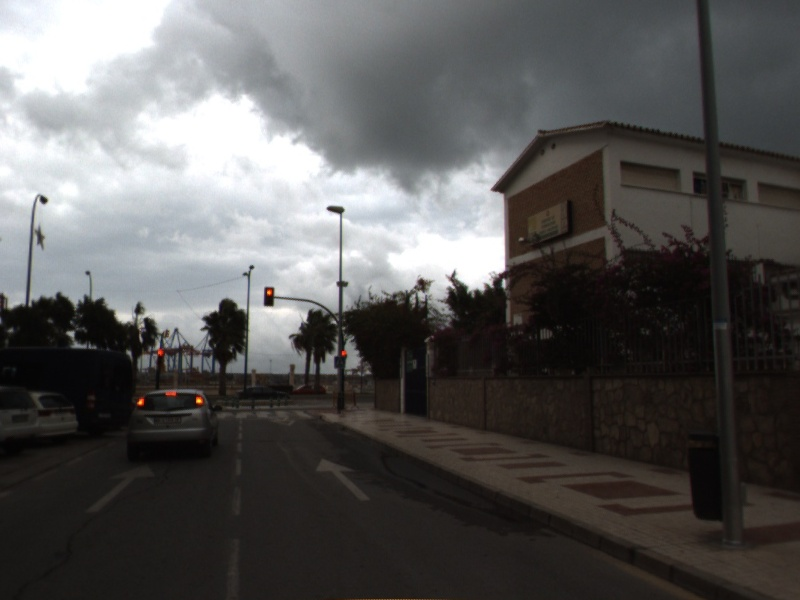STRAIGHT: (81, 461, 158, 515), (314, 456, 374, 503)
